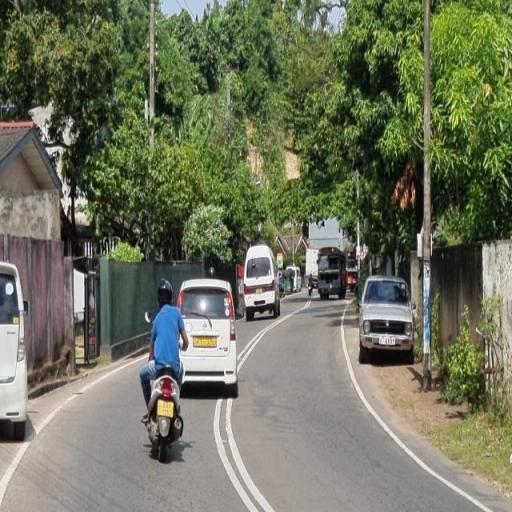double_white_line: (338, 309, 494, 510), (213, 398, 274, 510)
